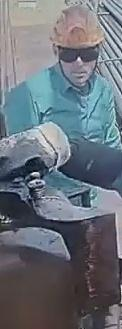gloves: (0, 120, 71, 181)
goggles: (55, 43, 100, 62)
helmet: (49, 4, 107, 48)
vest: (1, 70, 122, 149)
